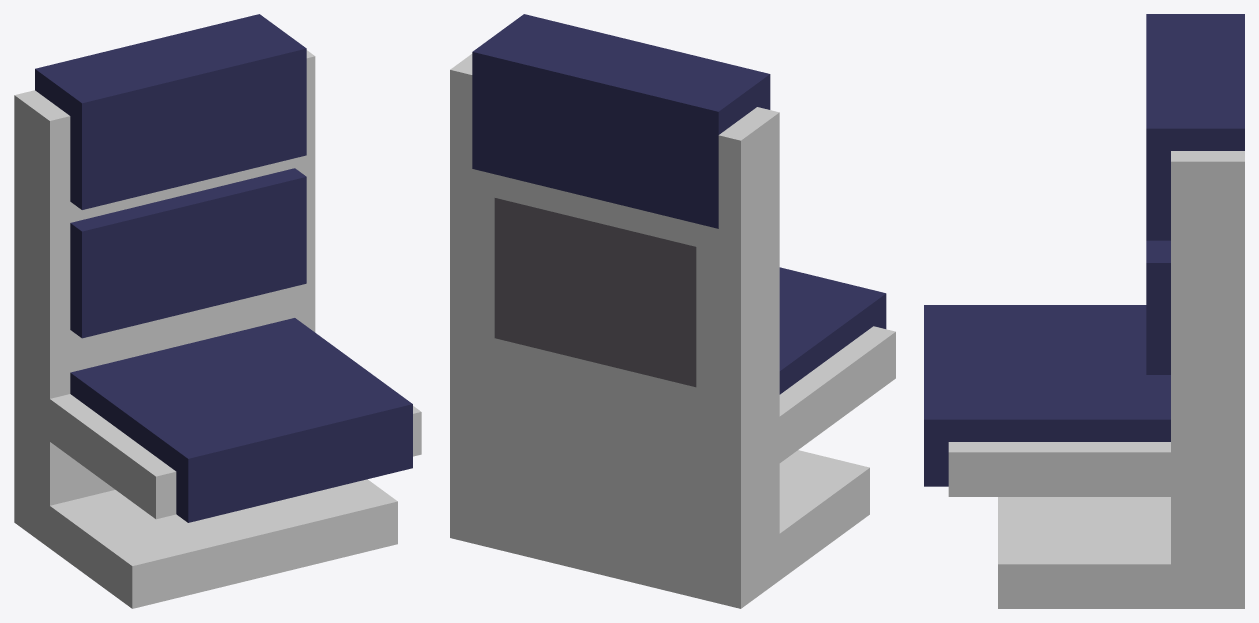
Rendered from seat.gltf.
3 views of the same model, side by side, from view 1: azimuth 30°, elevation 25°; view 2: azimuth 150°, elevation 25°; view 3: azimuth 270°, elevation 25° (orthographic). The views are drawn at different scales.
Visible parts, largest first — view 1: Layer.1; view 2: Layer.1; view 3: Layer.1.
Part boxes in pixels (x1,y1,x2,y2): Layer.1: [14, 14, 421, 608]; Layer.1: [450, 14, 895, 608]; Layer.1: [924, 14, 1244, 608].
Size of the model in its own units: 13 by 21 by 13.
